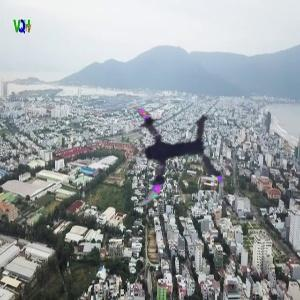drone: (108, 96, 224, 212)
